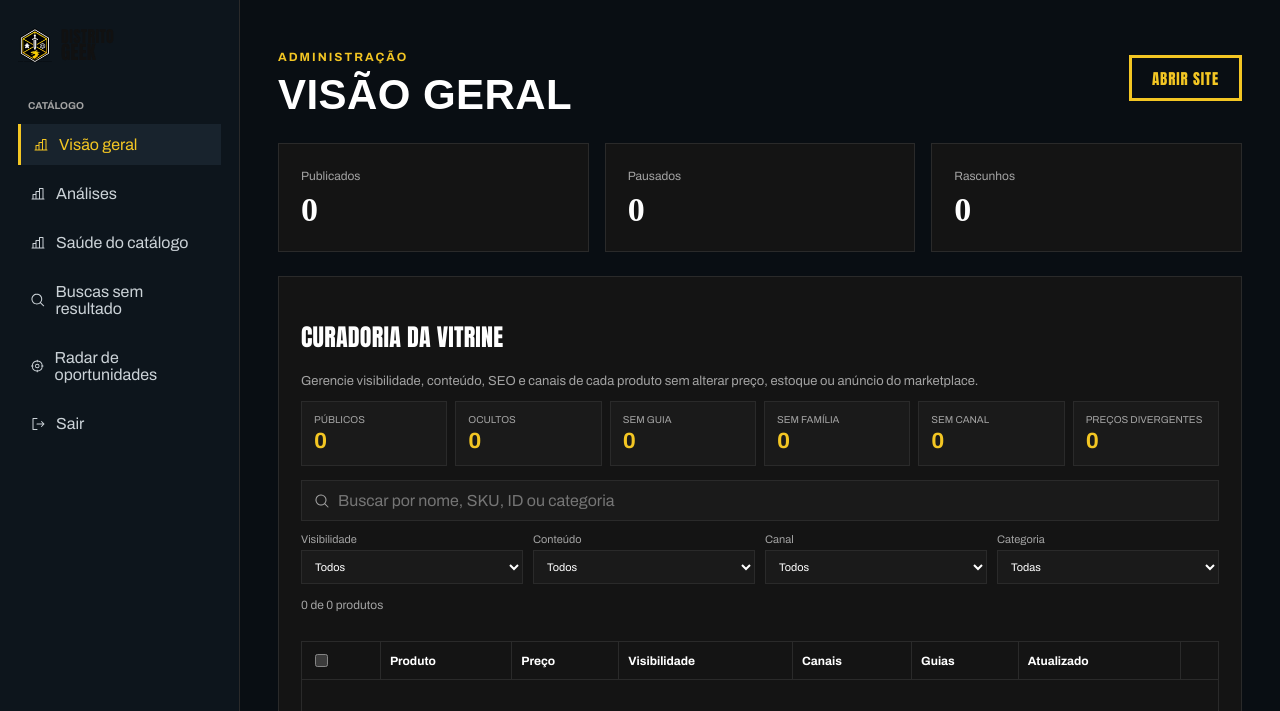
exibe buscas internas em uma seção própria e recalcula o estado atual
The width and height of the screenshot is (1280, 711).
Step 1. Click the button "Buscas sem resultado" → (120, 300), box [18,271,221,329]
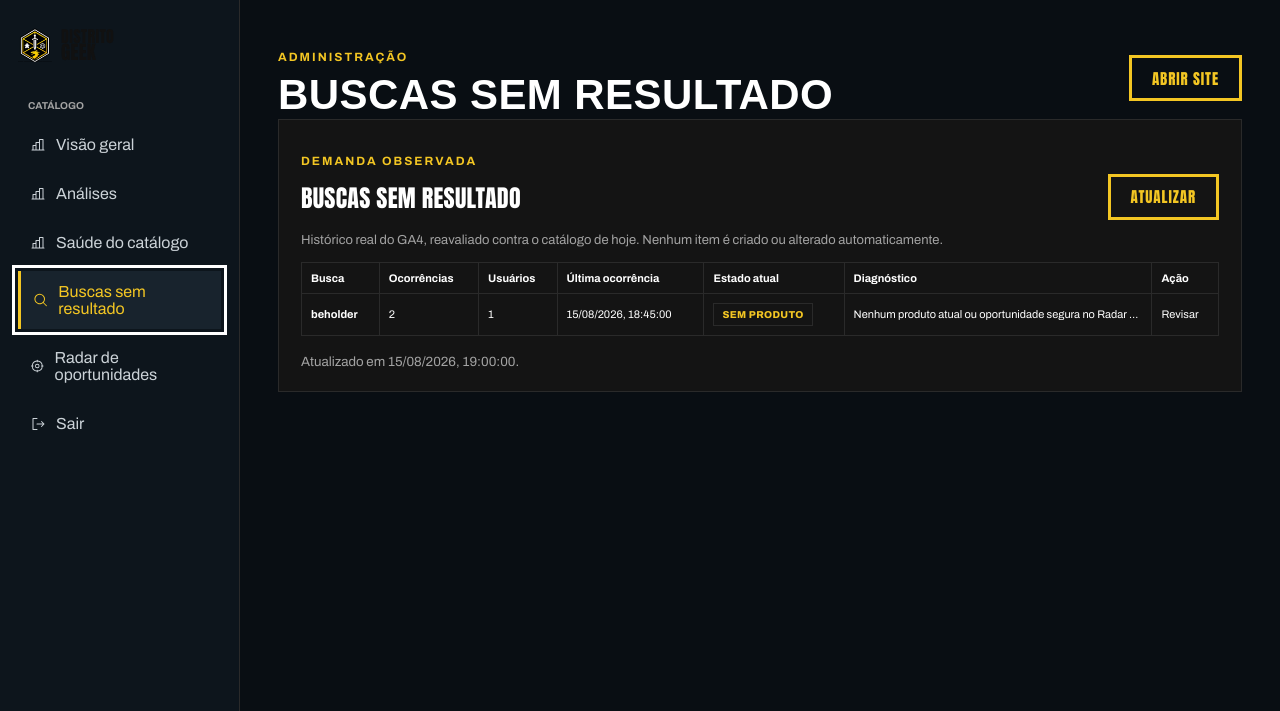
Now the text "SEM PRODUTO" is shown, box [713,303,813,326]
Now the text "beholder" is shown, box [311,308,358,320]
Now the text "Nenhum produto atual" is shown, box [854,308,1211,320]
